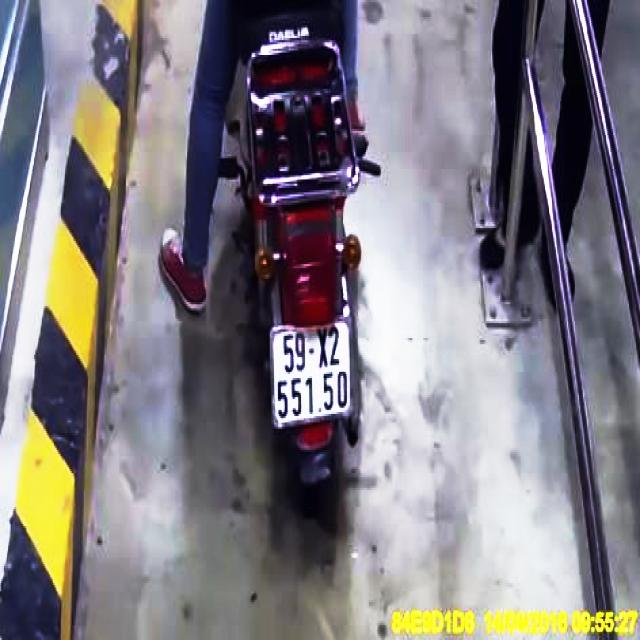license_plate: (276, 319, 353, 425)
